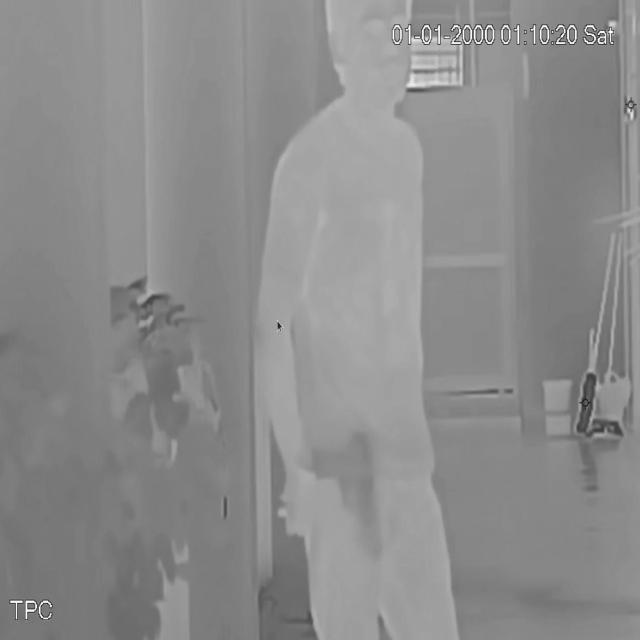Weapon: (308, 424, 398, 565)
